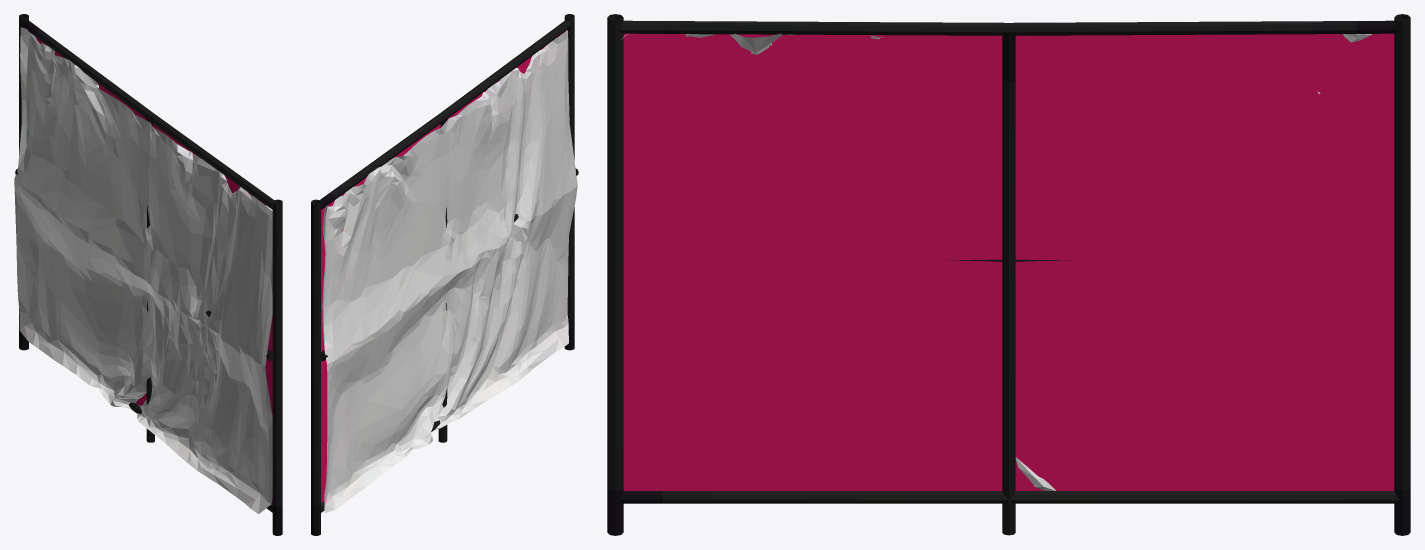
Rendered from Construction_Fence02.fbx.
3 views of the same model, side by side, from view 1: azimuth 30°, elevation 25°; view 2: azimuth 150°, elevation 25°; view 3: azimuth 270°, elevation 25° (orthographic). The views are drawn at different scales.
Visible parts, largest first — view 1: SM_City_Construnction_Fence_01d.mo; view 2: SM_City_Construnction_Fence_01d.mo; view 3: SM_City_Construnction_Fence_01d.mo.
Boxes of the visible parts, left/top/right/bottom form: SM_City_Construnction_Fence_01d.mo: left=14, top=14, right=282, bottom=535; SM_City_Construnction_Fence_01d.mo: left=311, top=14, right=578, bottom=535; SM_City_Construnction_Fence_01d.mo: left=607, top=14, right=1410, bottom=535.
Size of the model in its own units: 15.05 by 213 by 300.
